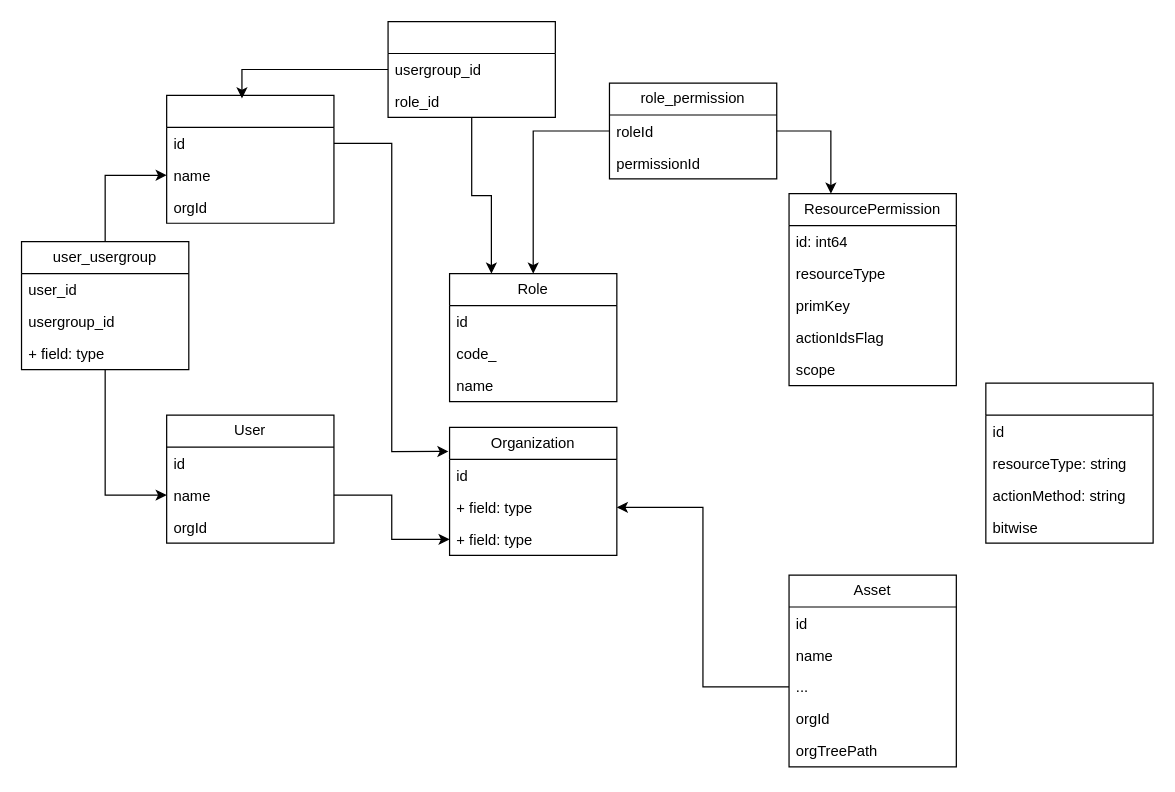
Image size: 1175x792. Some labels were removed from this diagram. Here are the shapes that lost their labels. From the top down, the box of each, then its label:
(387, 20, 555, 117): usergroup_role
(165, 94, 334, 223): UserGroup
(985, 382, 1153, 543): ResourceAction
